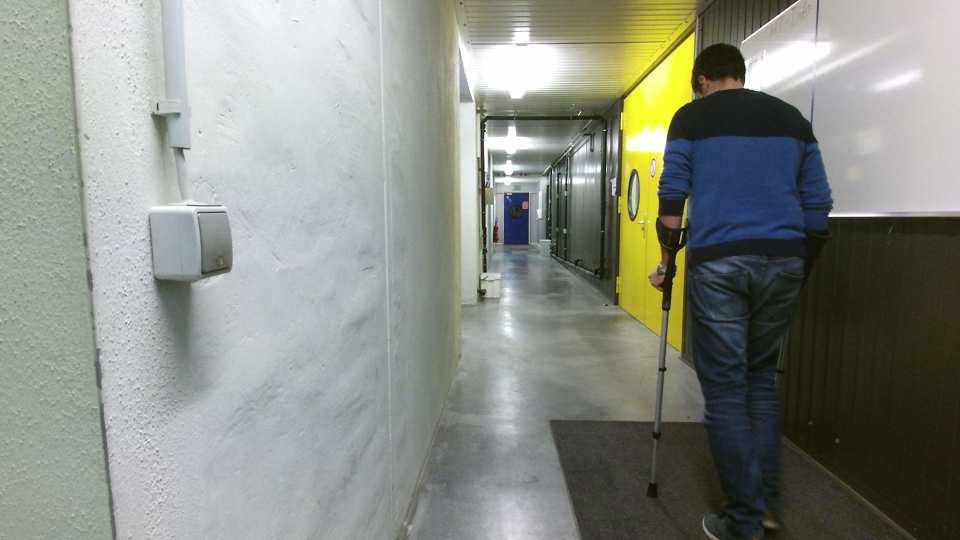crutches: (639, 36, 839, 540)
